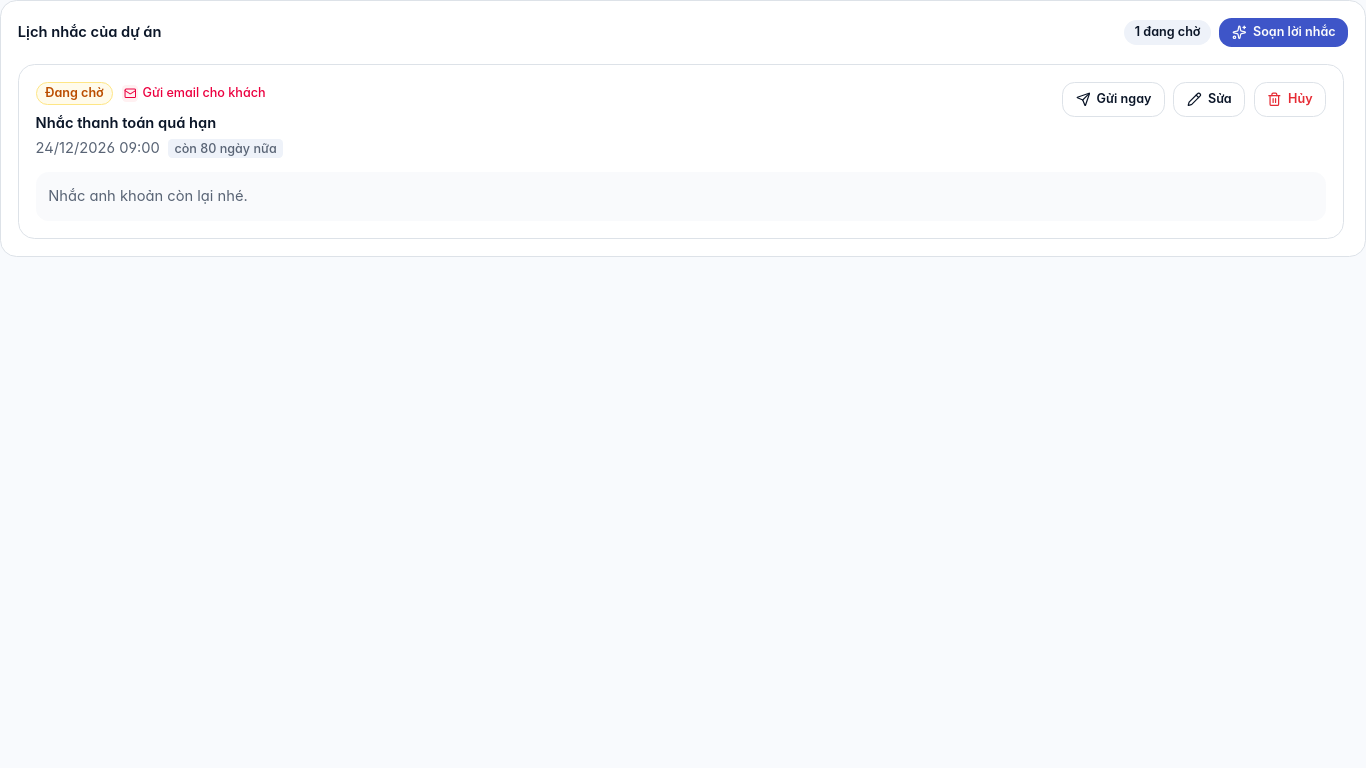
Scenario: <DealReminderPanel /> — gửi ngay › bấm 'Gửi ngay' CHƯA gửi gì — thư ra khách thì phải hỏi trước
What coordinates should you click on to do the following:
click the button "Gửi ngay"
I would click on:
 (1113, 100)
Its box is x1=1062 y1=82 x2=1165 y2=117.
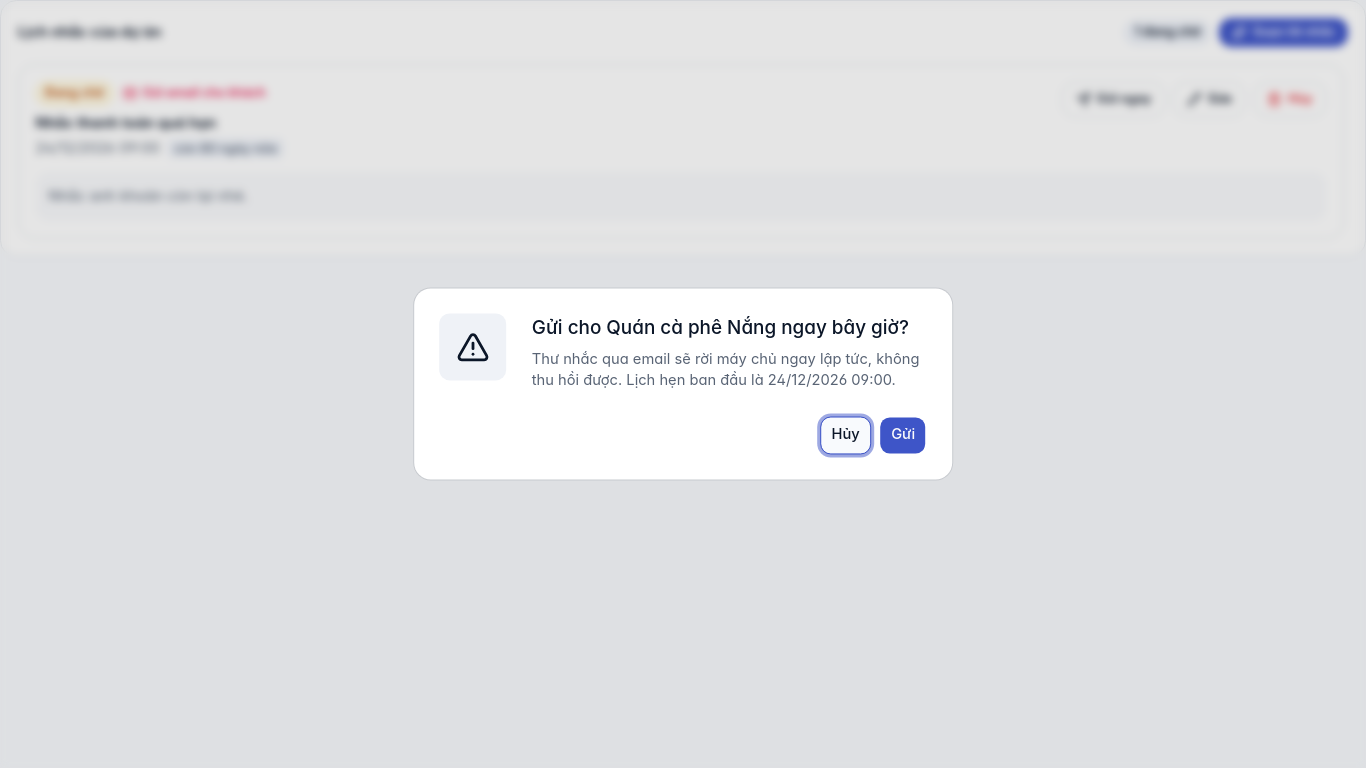
Expected: the dialog shows "Quán cà phê Nắng", x1=532 y1=317 x2=909 y2=340
Expected: the dialog shows "không thu hồi được", x1=532 y1=350 x2=920 y2=389
Expected: the dialog shows "24/12/2026", x1=532 y1=350 x2=920 y2=389
